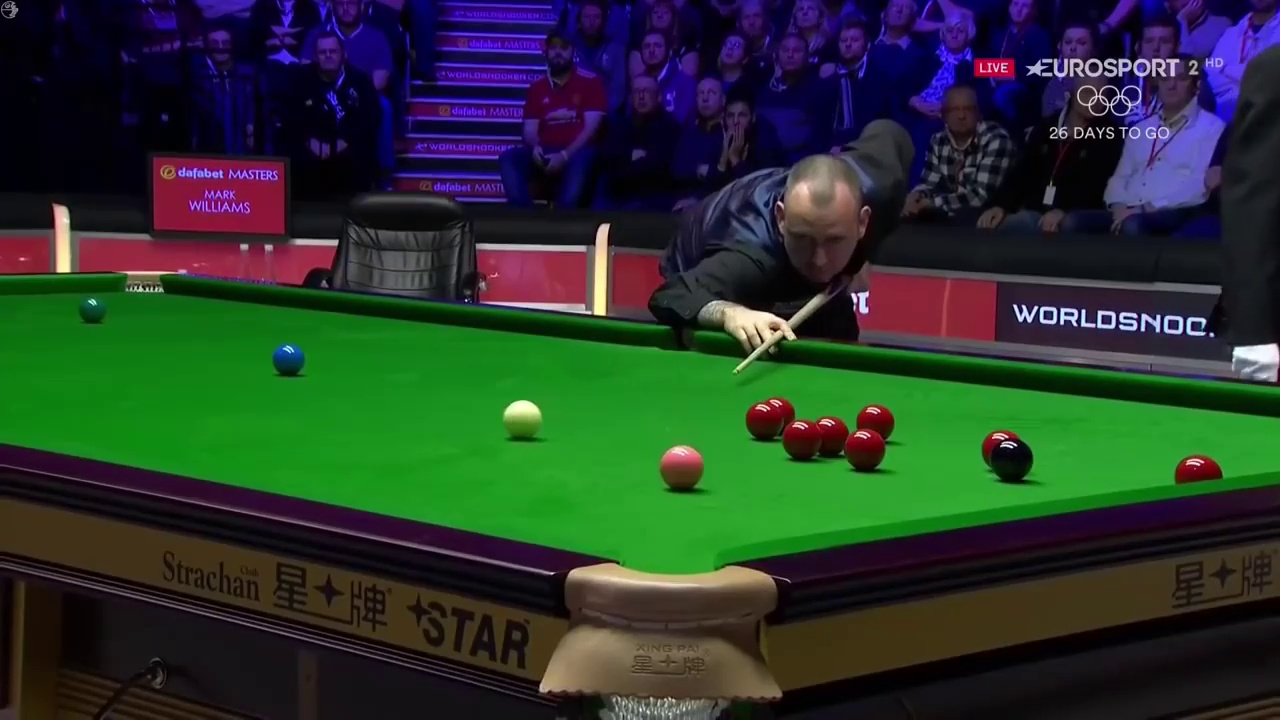black: (991, 443, 1033, 479)
blue: (272, 343, 305, 378)
green: (78, 296, 104, 325)
pink: (662, 446, 704, 492)
red: (845, 432, 885, 472), (784, 422, 816, 462), (747, 406, 781, 441), (862, 408, 894, 430)
white: (501, 399, 546, 441)
